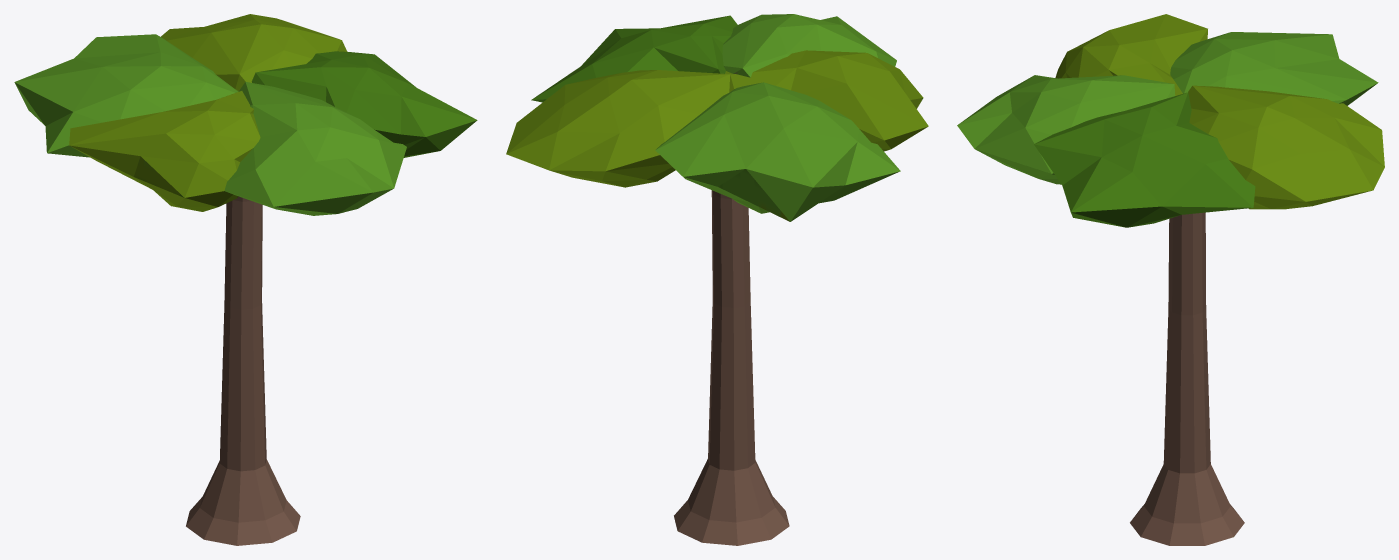
The model's file is rainforest_canopy_tree.obj.
3 views of the same model, side by side, from view 1: azimuth 30°, elevation 25°; view 2: azimuth 150°, elevation 25°; view 3: azimuth 270°, elevation 25° (orthographic). The views are drawn at different scales.
Visible parts, largest first — view 1: Rainforest_canopy_tree; view 2: Rainforest_canopy_tree; view 3: Rainforest_canopy_tree.
Boxes of the visible parts, box(x1,y1,x2,y2) form: Rainforest_canopy_tree: box(14, 14, 477, 545); Rainforest_canopy_tree: box(506, 14, 928, 545); Rainforest_canopy_tree: box(957, 14, 1384, 545).
Size of the model in its own units: 2.31 by 2.78 by 2.42.
1 material, 1 textured.
